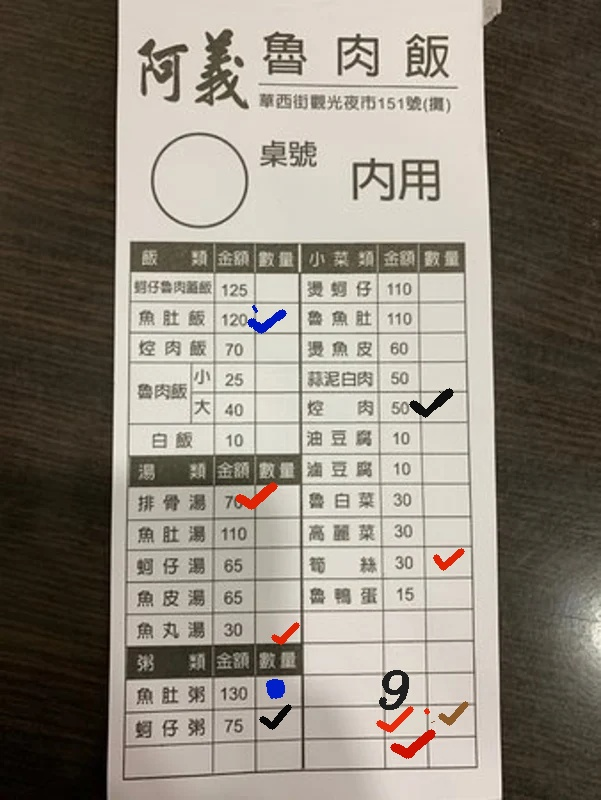marked_circle: (256, 678, 299, 706)
marked_number_9: (382, 674, 425, 702)
marked_tick: (384, 735, 427, 763), (256, 709, 299, 737), (256, 303, 299, 331), (384, 705, 427, 733), (258, 613, 301, 641), (427, 549, 470, 577), (257, 487, 300, 515), (431, 704, 474, 732), (421, 391, 464, 419)
